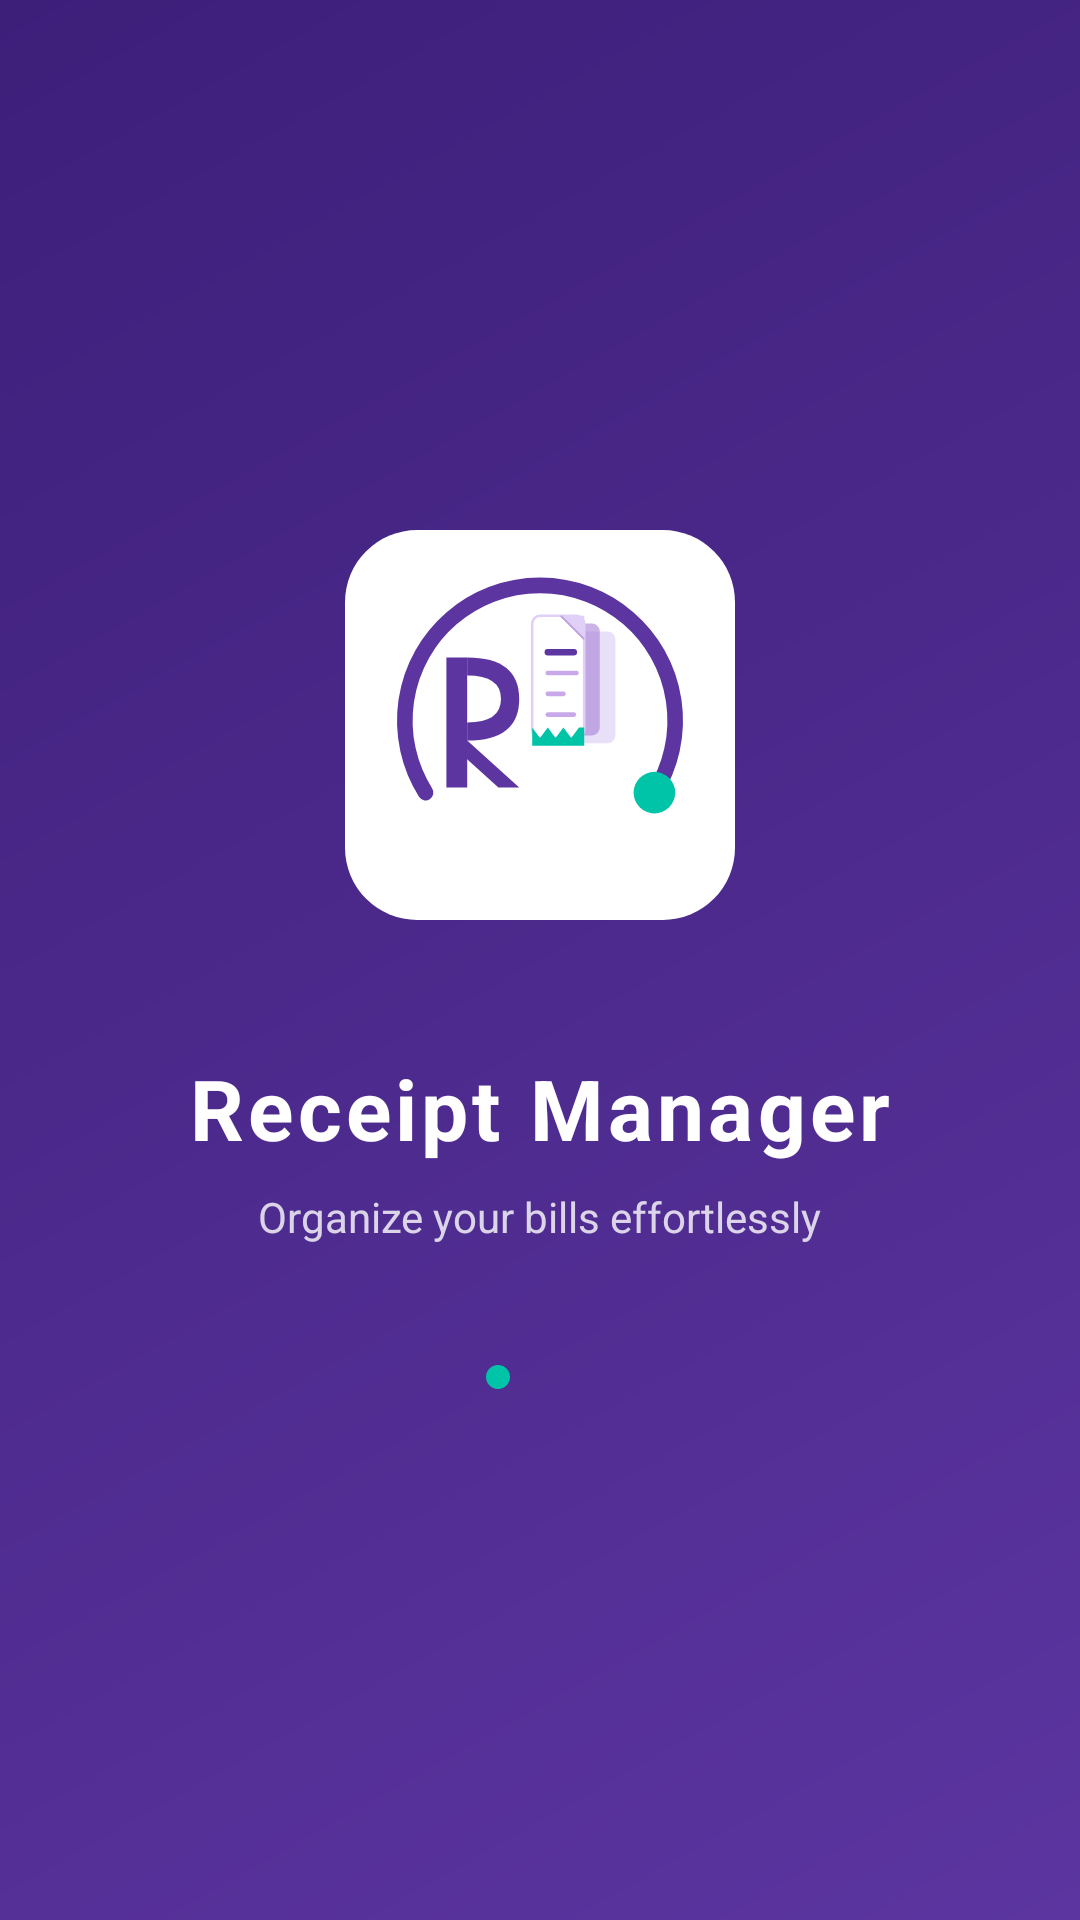

Icon click points for this 1080 x 1920 phone screenshot, format point (x, y):
dot: point (498, 1377)
